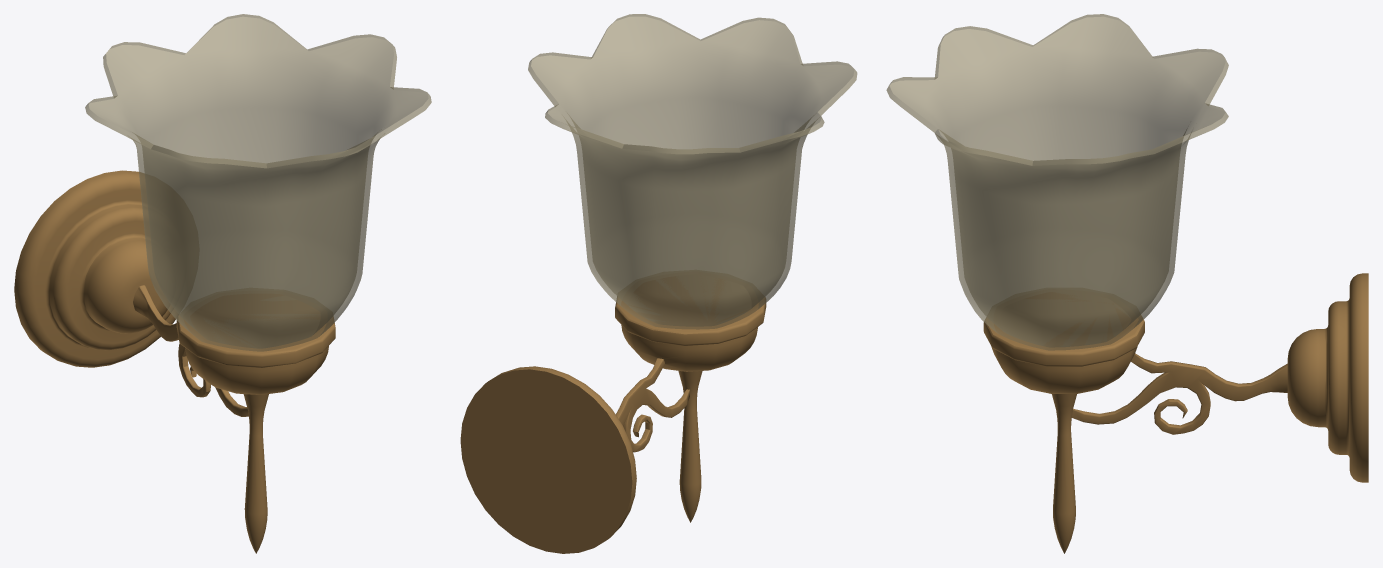
The model's file is Lampa.fbx.
3 renders of one model, left to right at view 1: azimuth 30°, elevation 25°; view 2: azimuth 150°, elevation 25°; view 3: azimuth 270°, elevation 25°, orthographic. The views are drawn at different scales.
Visible parts, largest first — view 1: Circle.001, Cylinder; view 2: Circle.001, Cylinder; view 3: Circle.001, Cylinder.
Part boxes in pixels (x1,y1,x2,y2): Circle.001: [85, 14, 431, 351]; Cylinder: [14, 170, 335, 553]; Circle.001: [528, 14, 857, 329]; Cylinder: [460, 272, 766, 553]; Circle.001: [886, 14, 1228, 350]; Cylinder: [983, 273, 1368, 553].
Bounding box in the file's own units: 442 × 657 × 614.
